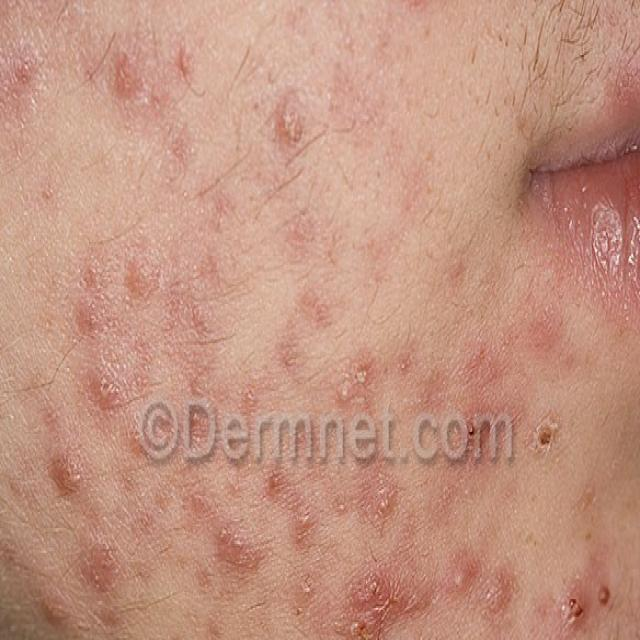Acne: (0, 224, 459, 636), (0, 21, 363, 176), (524, 390, 640, 639), (430, 538, 535, 624)
